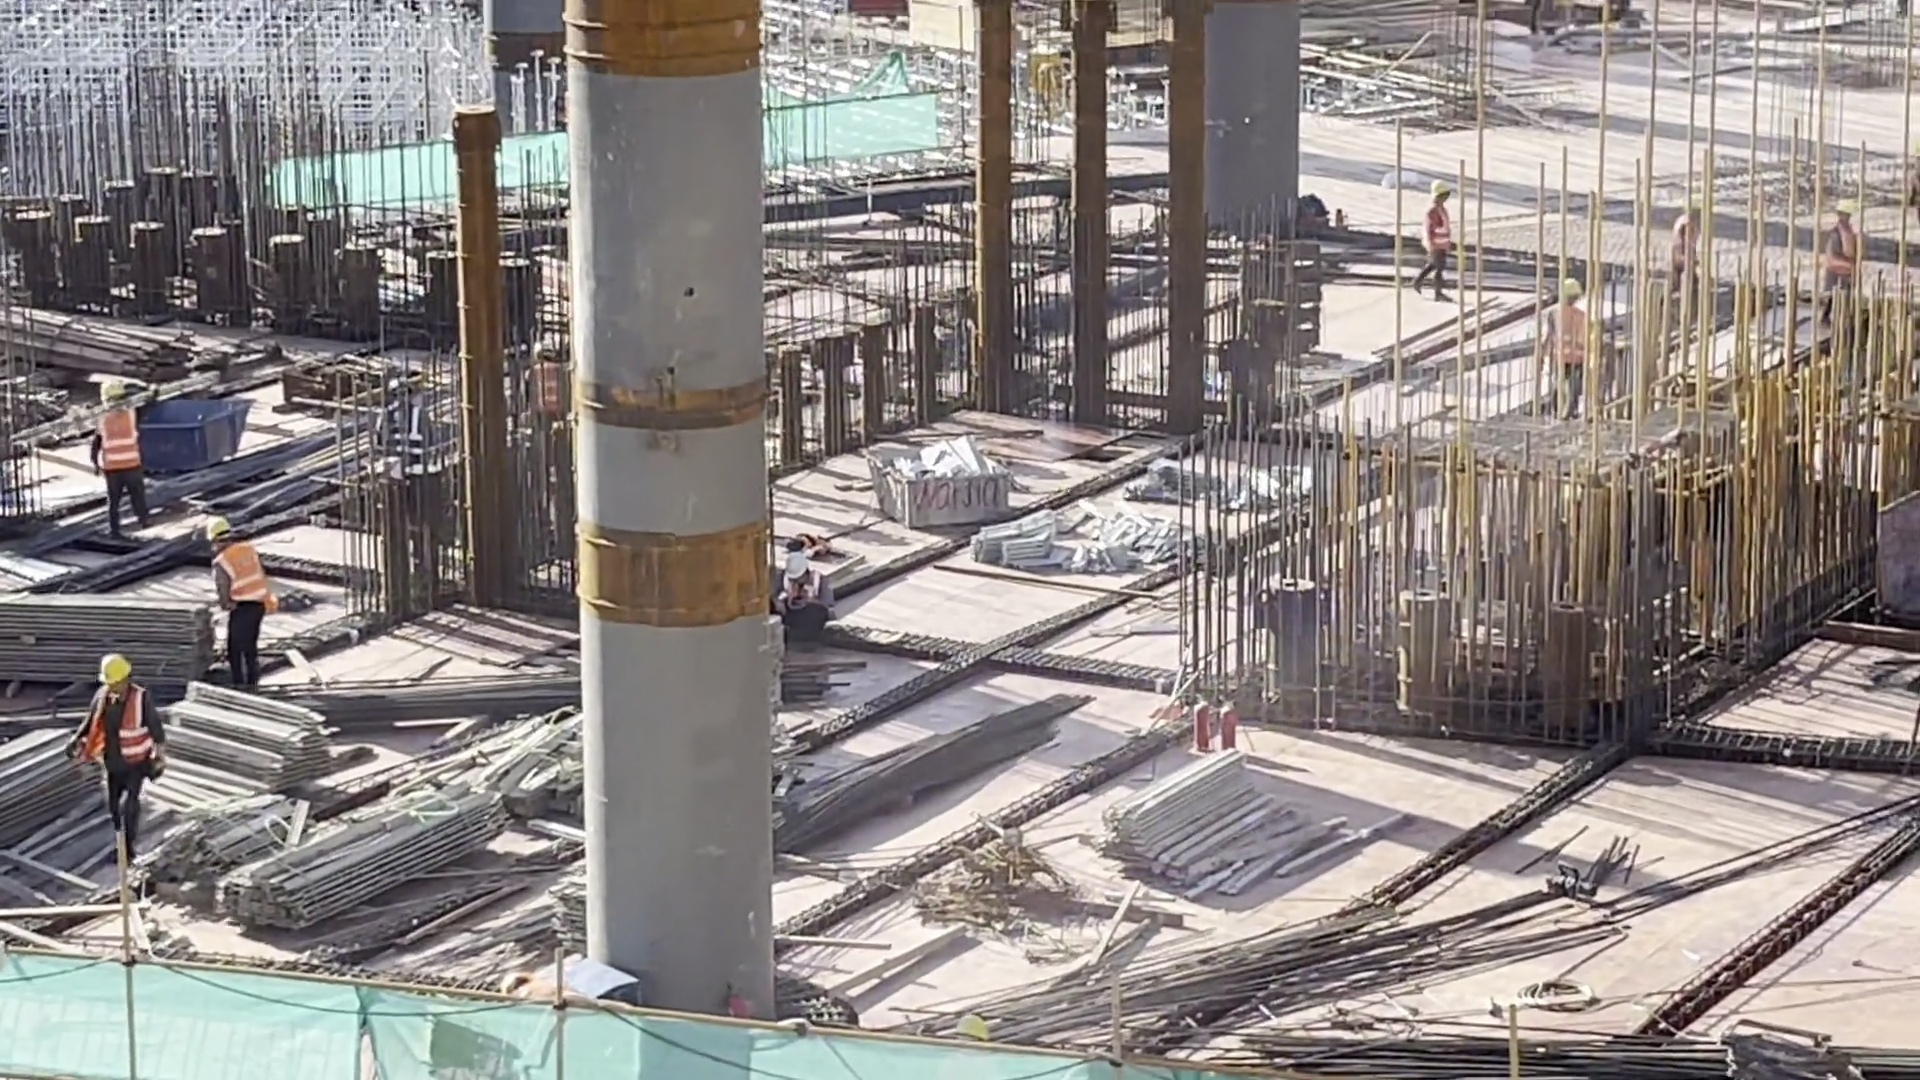helmet: (191, 506, 234, 542), (95, 371, 130, 411), (93, 646, 128, 687), (777, 549, 812, 575), (1837, 198, 1869, 223), (1559, 264, 1584, 294), (1430, 178, 1445, 200)
person: (69, 645, 166, 857), (182, 512, 280, 691), (367, 363, 458, 524), (74, 375, 156, 528), (1547, 267, 1604, 405), (760, 545, 841, 632), (1410, 171, 1459, 308), (1821, 187, 1874, 305)
vest: (201, 556, 299, 620), (93, 687, 141, 758), (1548, 295, 1596, 360), (96, 409, 130, 472), (1829, 228, 1863, 287), (1428, 204, 1445, 243)
